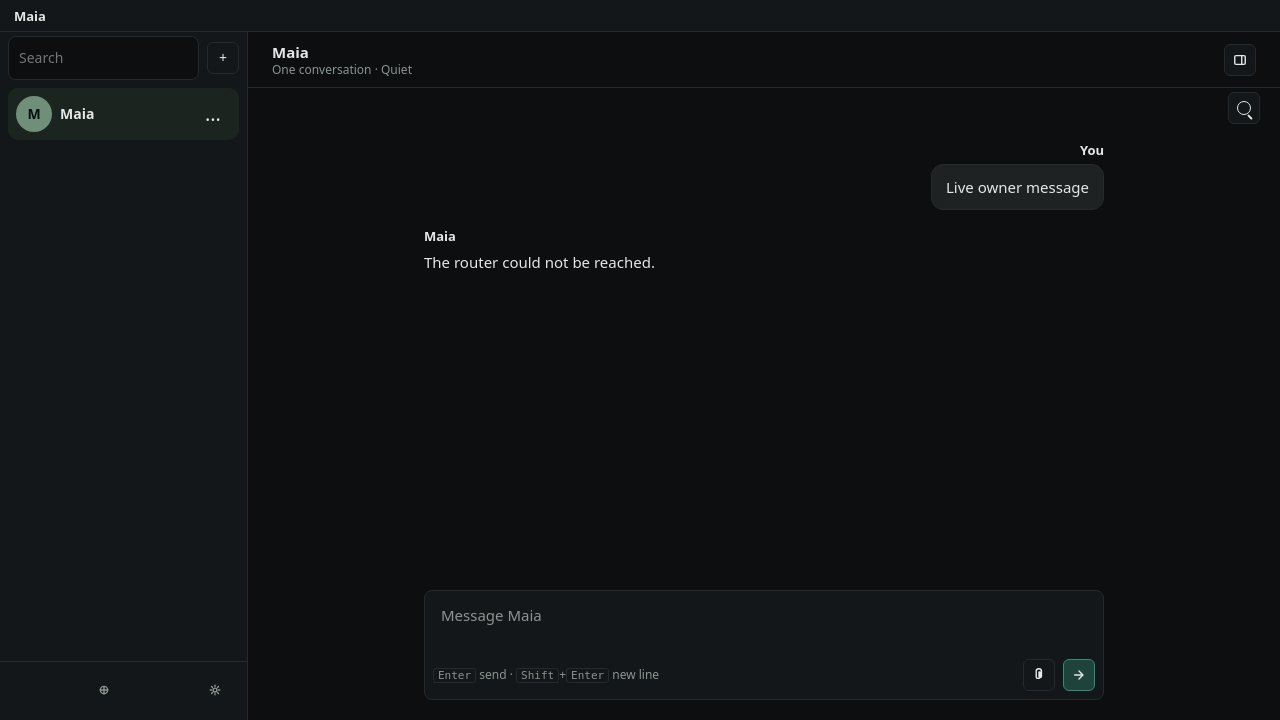
Test: Live shell integration › renders API transcript messages without fixture-only shell data
Expected: the text "Live owner message" is shown, [946,175,1089,199]
Expected: the text "The router could not be reached." is shown, [424,252,655,272]
Click the button named "Inspect": (1240, 60) [1224,44,1256,76]
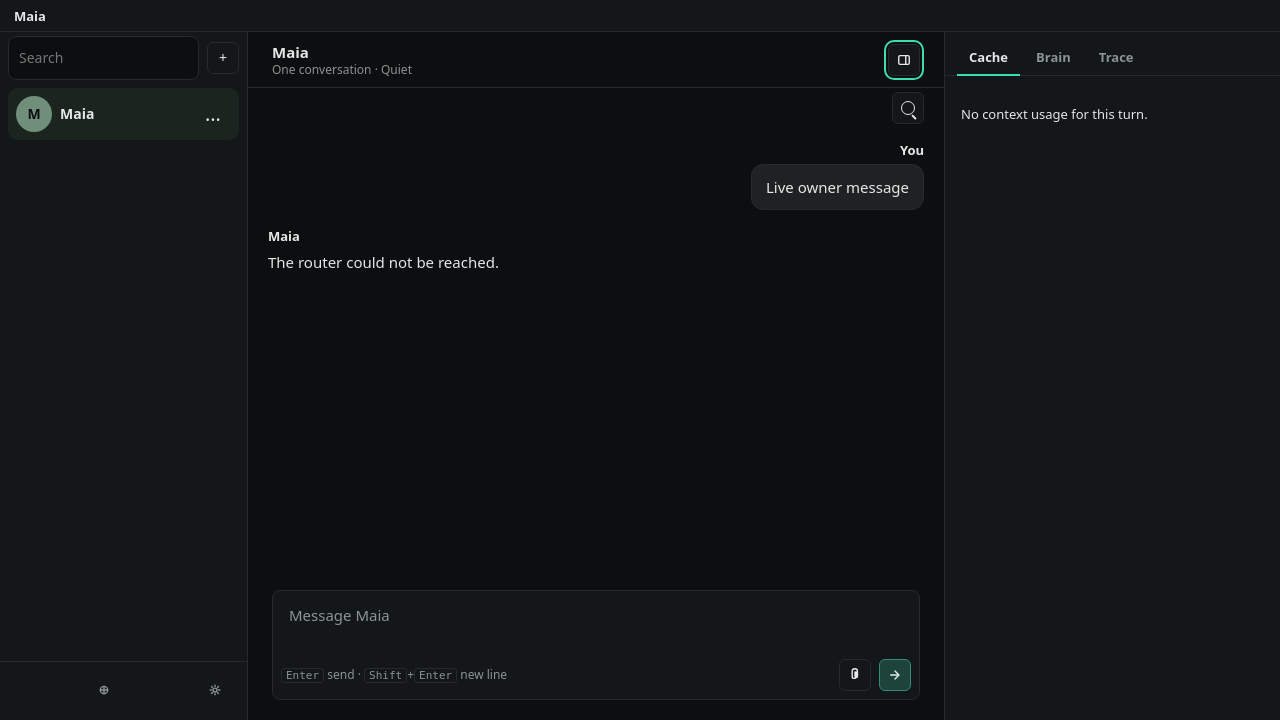
Now the tab "Cache" is shown, box [957,40,1020,76]
Now the tab "Brain" is shown, box [1024,40,1083,76]
Now the tab "Trace" is shown, box [1087,40,1146,76]
